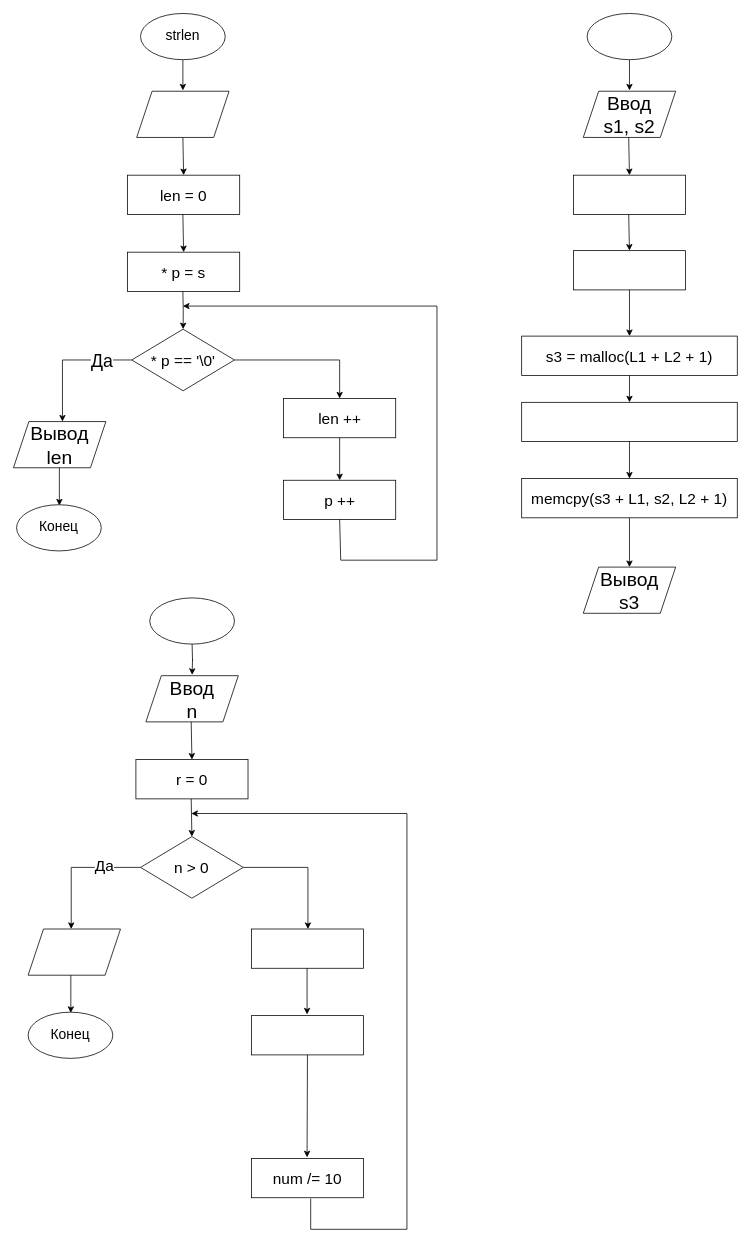
Image size: 751x1249. Some labels were removed from this diagram. The shapes that lost their labels are listed below. From the top down, each one's centre as x and y in pixels, then its label:
At (x=629, y=36): "strcat".
At (x=182, y=113): "Ввод s".
At (x=629, y=194): "L1 = strlen(s1)".
At (x=629, y=270): "L2 = strlen(s2)".
At (x=629, y=422): "memcpy(s3, s1, L1)".
At (x=191, y=620): "reverse".
At (x=74, y=951): "Вывод r".
At (x=307, y=948): "r = r * 10".
At (x=307, y=1035): "r += num % 10".
